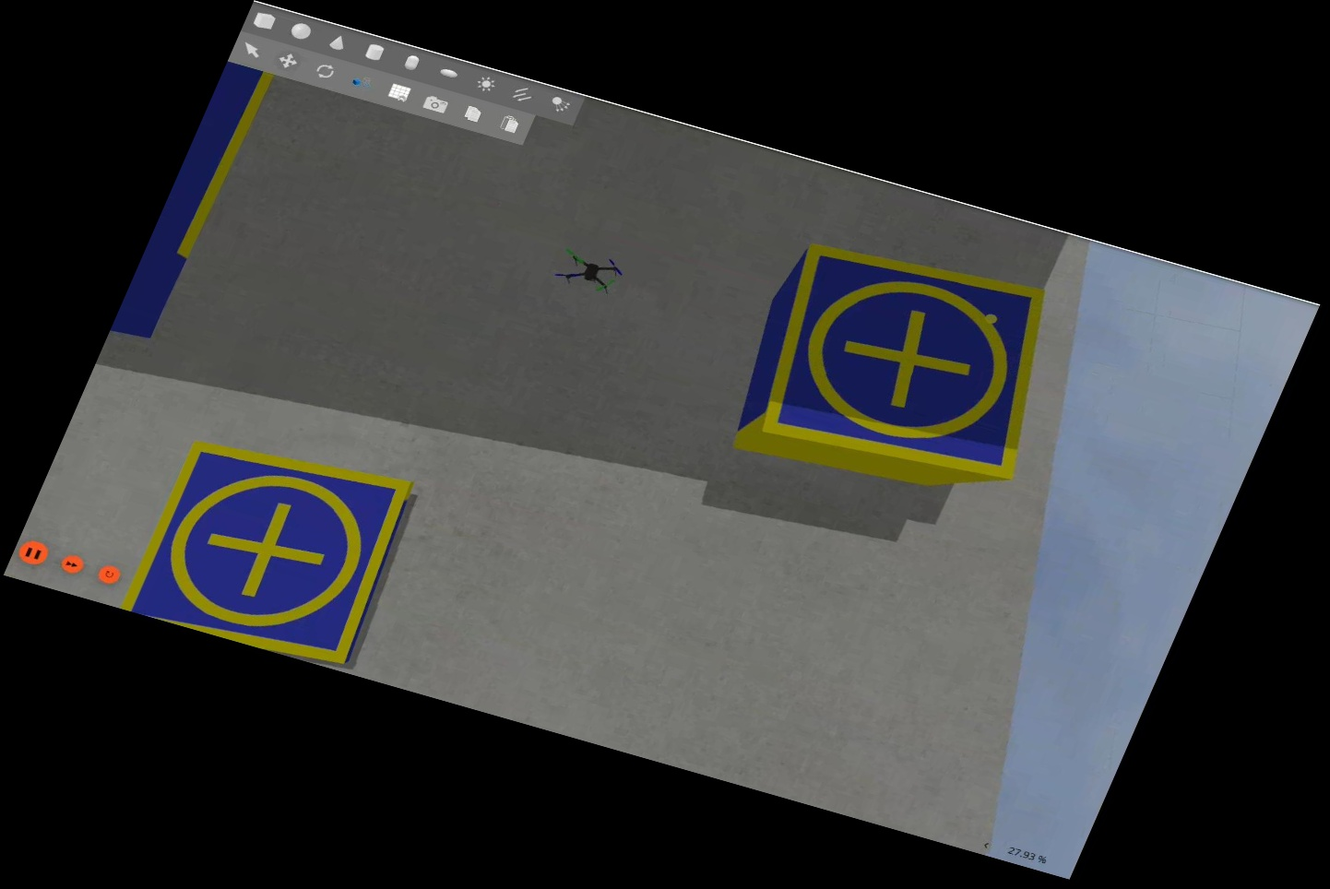small_base: (730, 225, 1094, 502), (113, 418, 436, 677)
